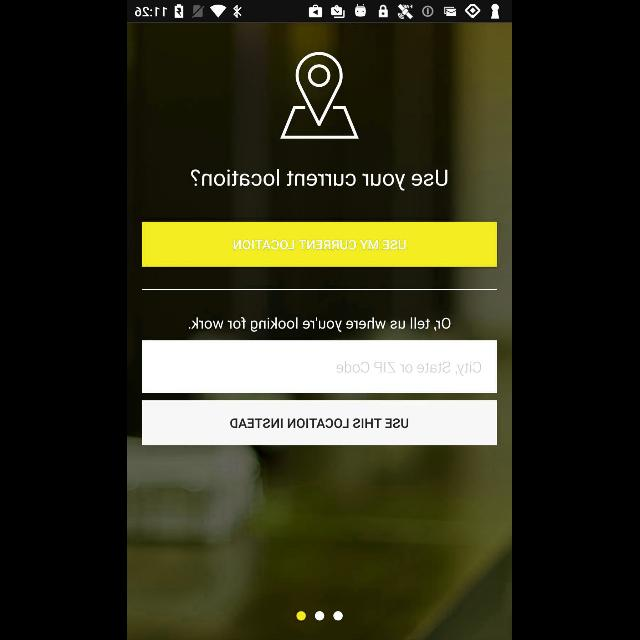backgroundimage: (128, 22, 512, 640)
icon: (280, 51, 360, 139)
input: (142, 341, 498, 393)
pageindicator: (296, 610, 344, 622)
text: (142, 222, 498, 268), (191, 168, 449, 190), (189, 318, 451, 332), (336, 362, 482, 376)
textbutton: (142, 400, 498, 446)
uppertaskbar: (128, 1, 512, 23)
